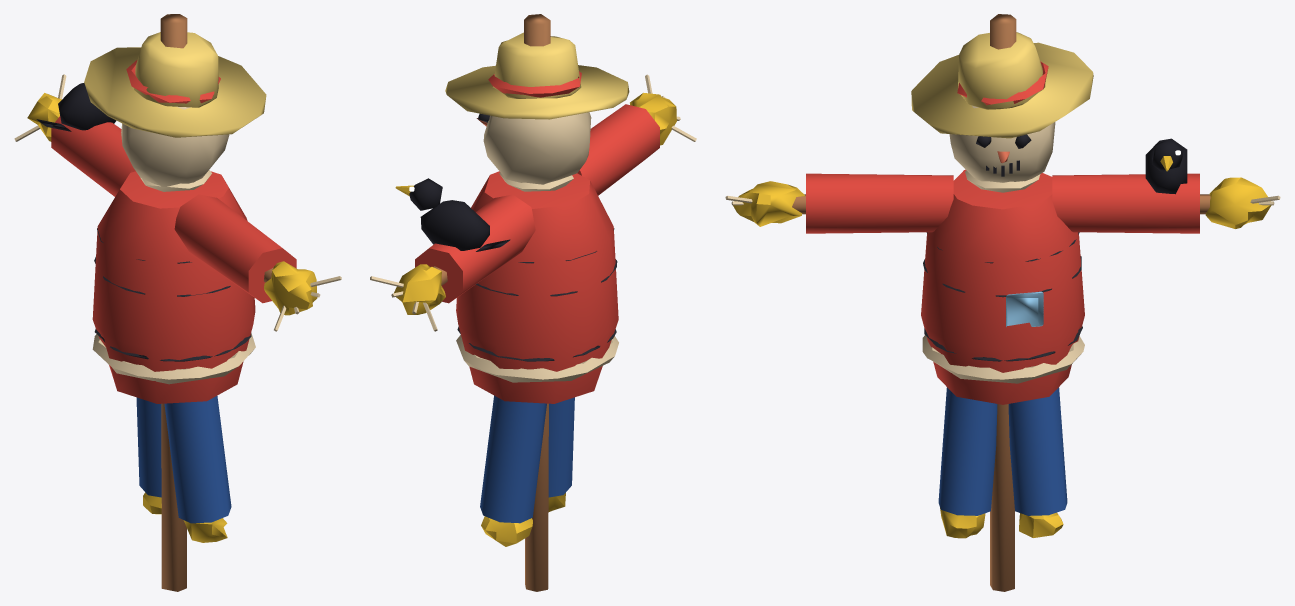
File: scarecrow.glb
3 views of the same model, side by side, from view 1: azimuth 30°, elevation 25°; view 2: azimuth 150°, elevation 25°; view 3: azimuth 270°, elevation 25° (orthographic).
Parts seen in each view (by area): view 1: scarecrow; view 2: scarecrow; view 3: scarecrow.
Boxes of the visible parts, bbox=[...] form: scarecrow: bbox=[14, 14, 341, 591]; scarecrow: bbox=[370, 14, 696, 591]; scarecrow: bbox=[725, 14, 1280, 591].
Bounding box in the file's own units: 0.6717 × 2.29 × 2.03.
Materials: 1 (1 with a texture image).
